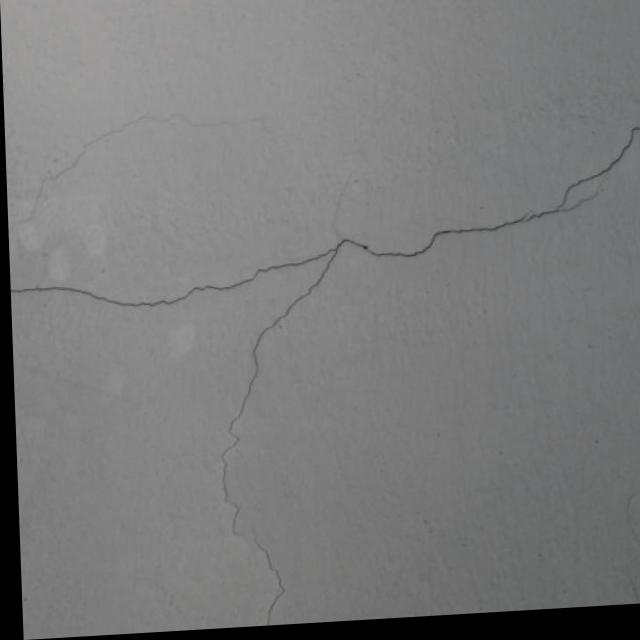Crack: (4, 120, 640, 324), (193, 312, 332, 631)
